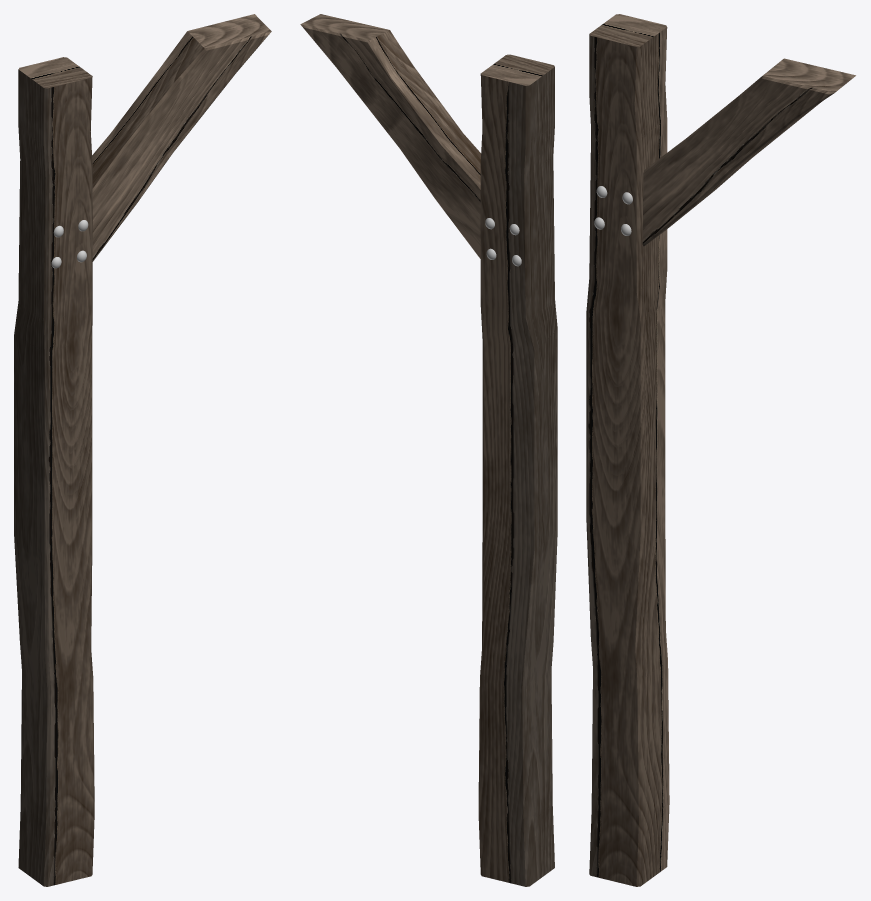
File: SM_BeamL.fbx
3 renders of one model, left to right at view 1: azimuth 30°, elevation 25°; view 2: azimuth 150°, elevation 25°; view 3: azimuth 330°, elevation 25°, orthographic. The views are drawn at different scales.
Parts seen in each view (by area): view 1: SM_BeamL; view 2: SM_BeamL; view 3: SM_BeamL.
Boxes of the visible parts, x1,y1,x2,y2 form: SM_BeamL: (14,14,271,886); SM_BeamL: (300,14,557,886); SM_BeamL: (586,14,855,886).
Size of the model in its own units: 98.01 by 314 by 22.66.
